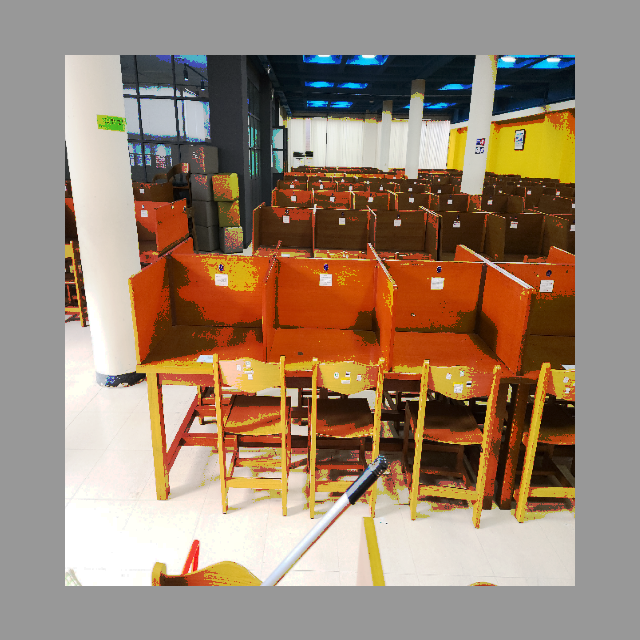empty: (397, 245, 523, 440), (135, 246, 263, 425), (267, 239, 386, 427)
